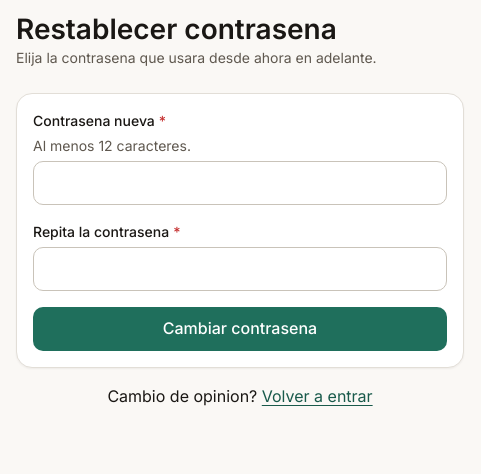
errores por campo del servidor › se pintan junto al campo que nombran
Type "una contrasena larga y normal" into the password field labelled "Contrasena nueva*".
click(240, 183); type("una contrasena larga y normal")  # box [33,161,447,205]
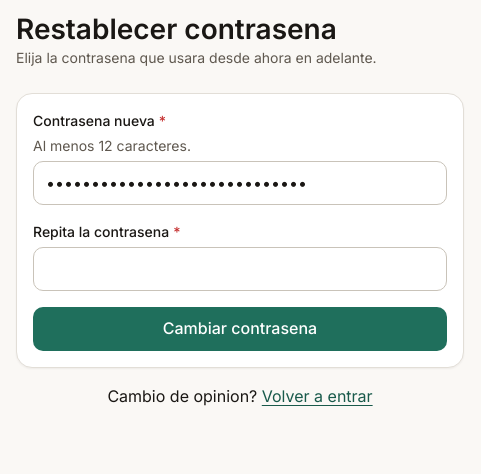
Type "una contrasena larga y normal" into the password field labelled "Repita la contrasena*".
click(240, 269); type("una contrasena larga y normal")  # box [33,247,447,291]
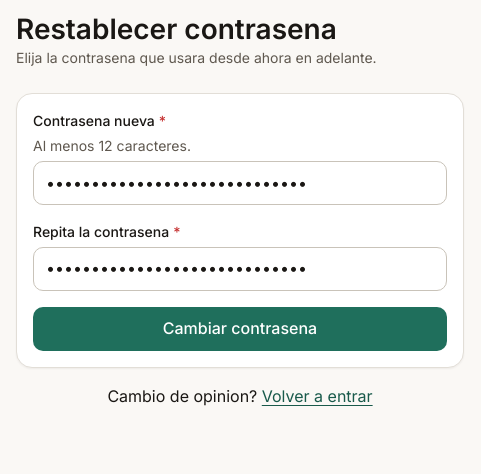
Click the button "Cambiar contrasena".
click(240, 329)  # box [33,307,447,351]
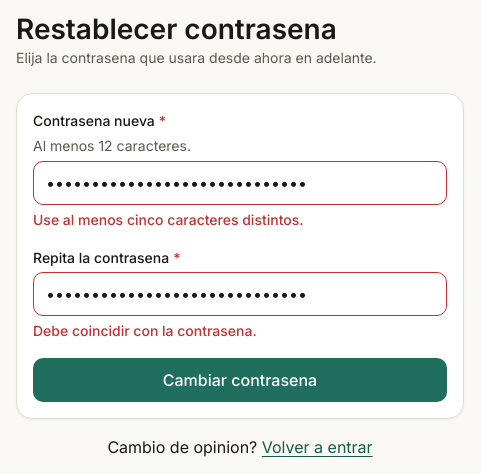
expect the number of messages is 2: met, box [33,211,304,228]; [33,322,257,339]
expect the message "Use al menos cinco caracteres distintos." is shown: met, box [33,211,304,228]
expect the message "Debe coincidir con la contrasena." is shown: met, box [33,322,257,339]
